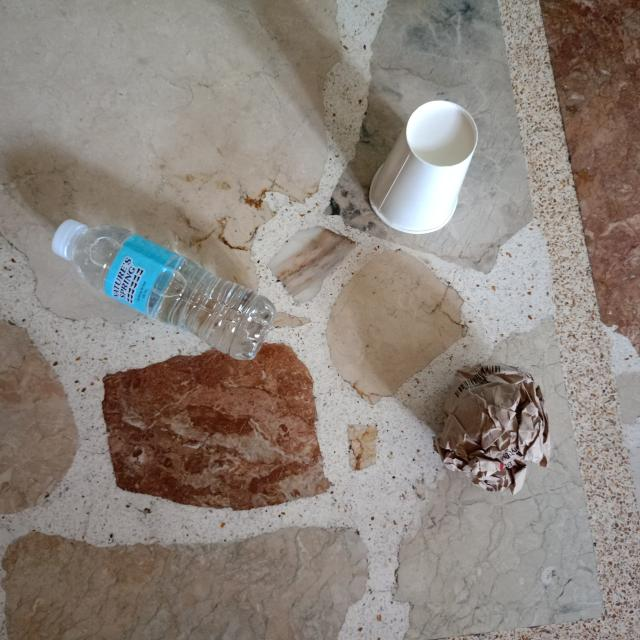Anorganik: (40, 209, 288, 372)
Organik: (425, 348, 560, 506), (364, 86, 489, 243)
